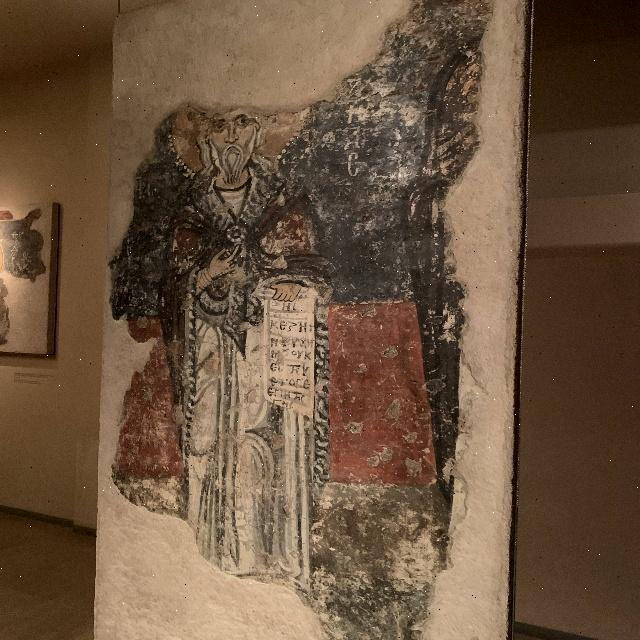aura: (163, 72, 312, 178)
book: (262, 287, 332, 420)
saint: (171, 82, 323, 595)
